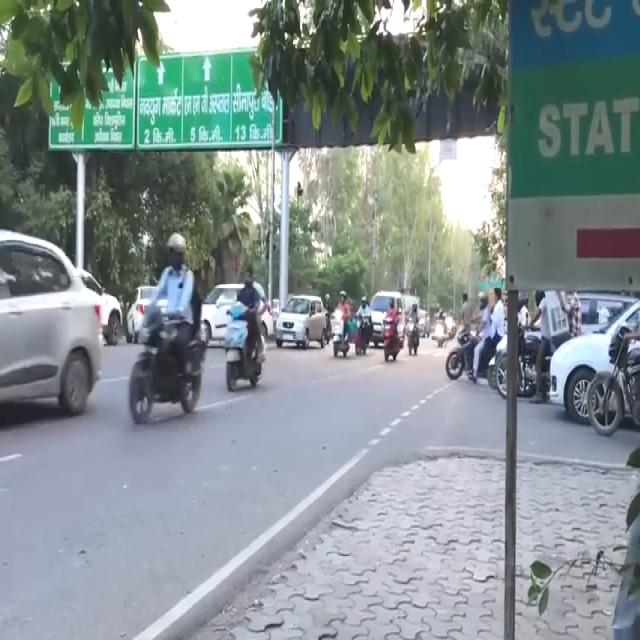MOTORCYCLE: (129, 295, 213, 426), (223, 301, 267, 390), (329, 303, 353, 359), (384, 311, 400, 364), (405, 315, 420, 358)
